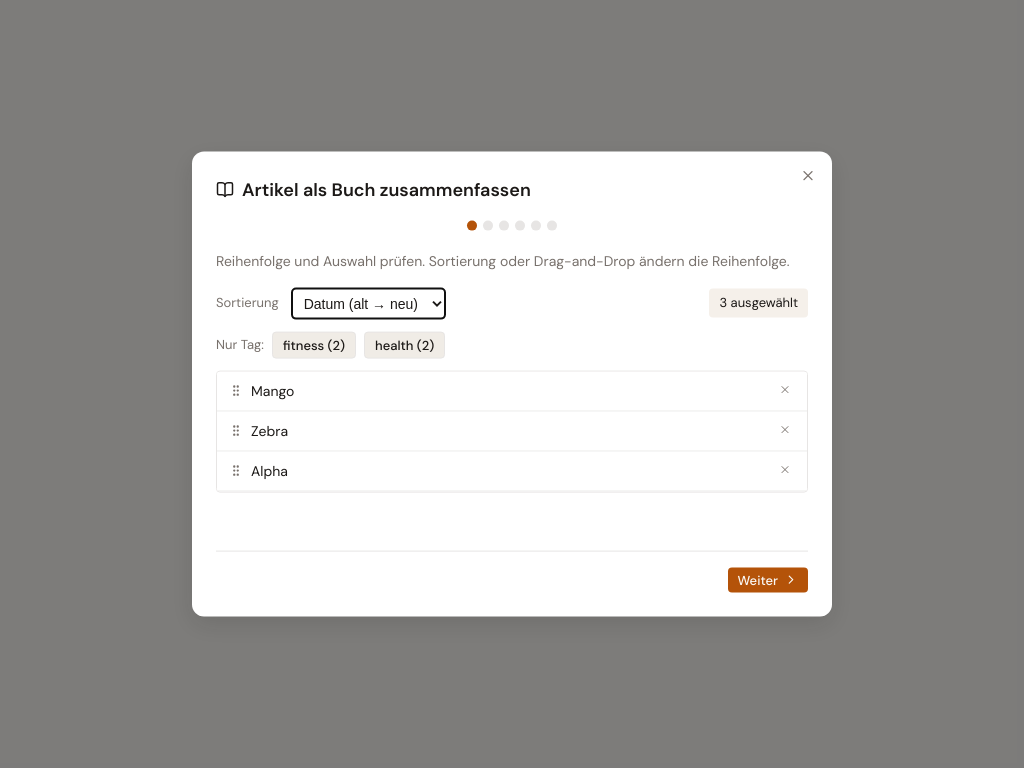
Test: ConvertToBookWizard validation + pre-fill › Next on Step 1 is disabled until title + author are non-empty
The image size is (1024, 768).
Click the button with test id "convert-to-book-wizard-step-0-next": click(768, 580) [728,567,808,592]
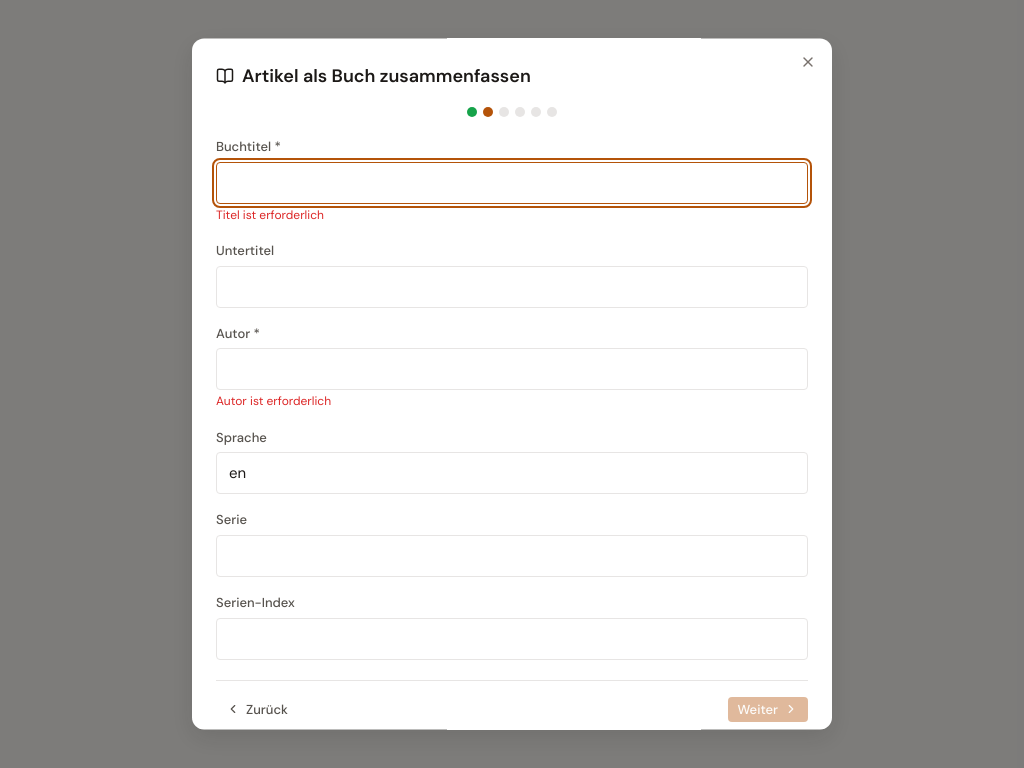
Expected: the button with test id "convert-to-book-wizard-step-1-next" is disabled, [728,697,808,722]
Note: Title only - still disabled (author missing).
In the field with test id "convert-to-book-wizard-metadata-title": (512, 183) [216,162,808,204], type "A Book"
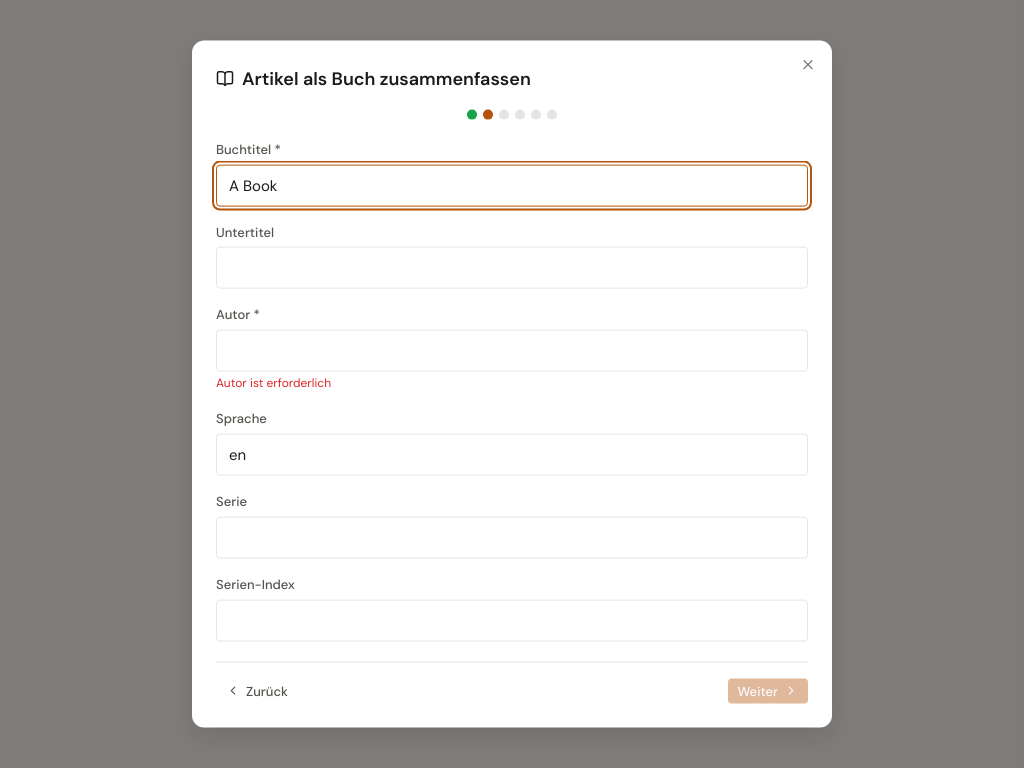
Expected: the button with test id "convert-to-book-wizard-step-1-next" is disabled, [728,678,808,703]
Note: Both present - enabled.
In the field with test id "convert-to-book-wizard-metadata-author": (512, 351) [216,330,808,372], type "An Author"
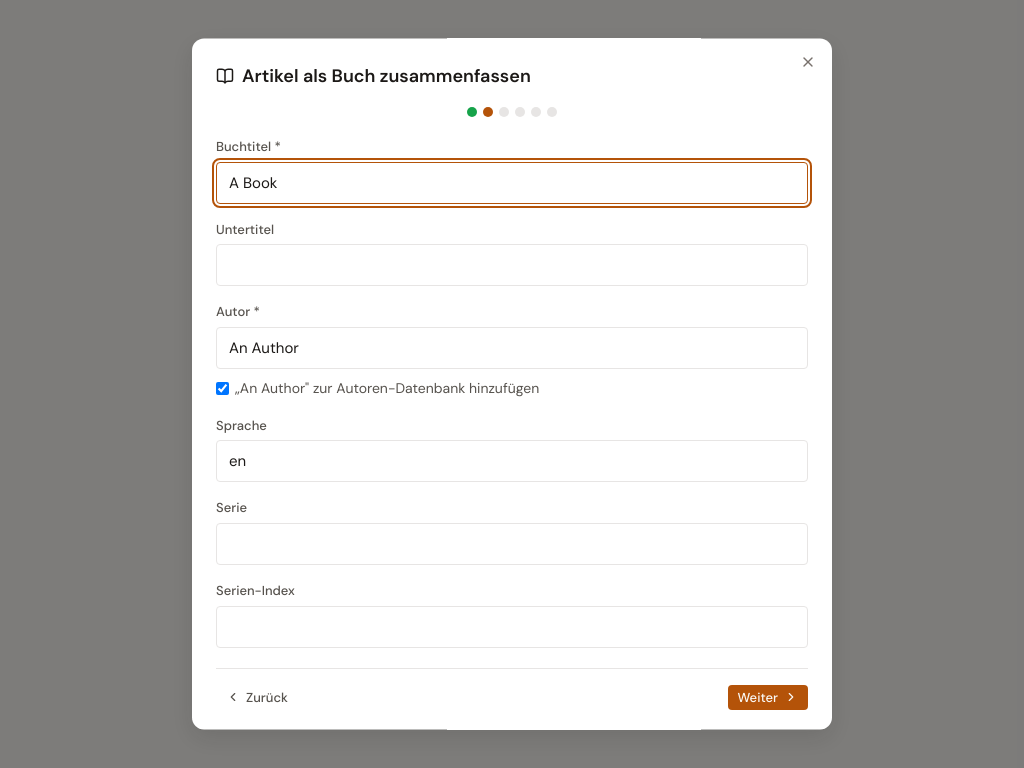
Expected: the button with test id "convert-to-book-wizard-step-1-next" is enabled, [728,685,808,710]
